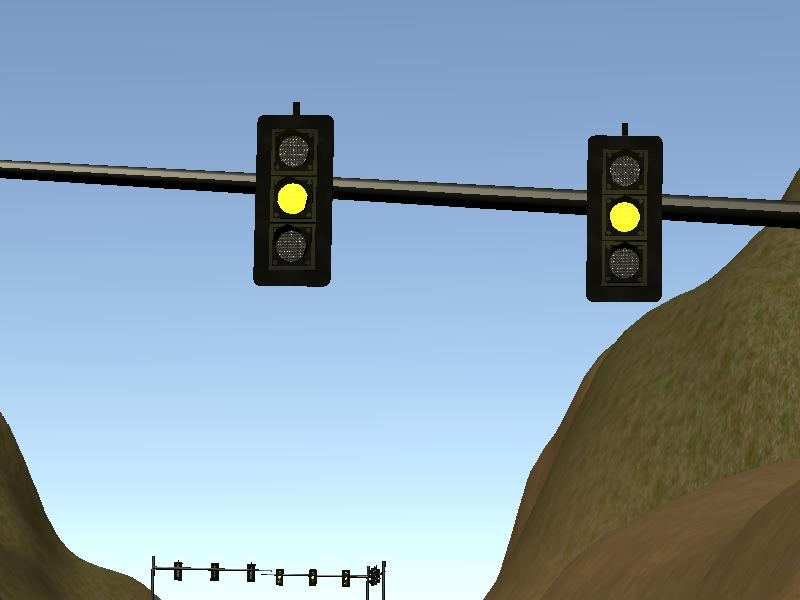yellow: (572, 119, 676, 315), (244, 98, 340, 302)
